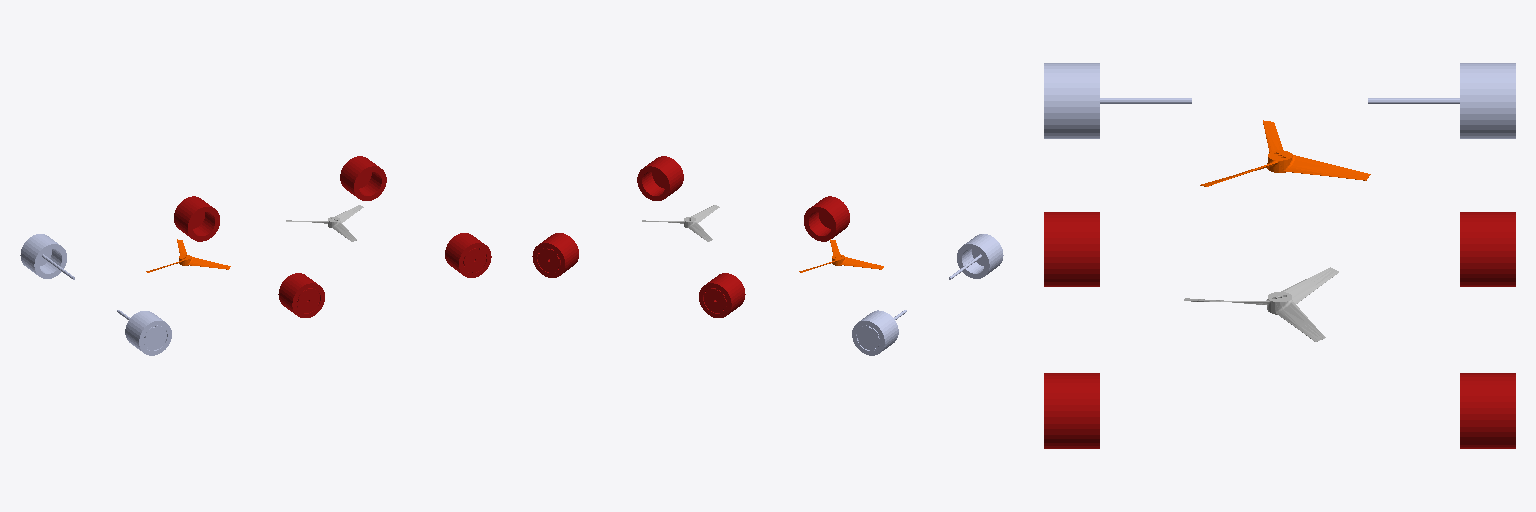
robot.urdf — Ensamblaje1_juan:
<?xml version="1.0" encoding="utf-8"?>
<!-- This URDF was automatically created by SolidWorks to URDF Exporter! Originally created by Stephen Brawner (brawner@gmail.com) 
     Commit Version: 1.6.0-4-g7f85cfe  Build Version: 1.6.7995.38578
     For more information, please see http://wiki.ros.org/sw_urdf_exporter -->
<robot
  name="Ensamblaje1_juan">
  <link
    name="chasis_trasero_link">
    <inertial>
      <origin
        xyz="-0.0158575511616777 0.000531638352664607 0.0101393434625862"
        rpy="0 0 0" />
      <mass
        value="0.195853503730635" />
      <inertia
        ixx="0.000166021256012164"
        ixy="5.73580606085256E-07"
        ixz="-4.25010569003643E-06"
        iyy="0.00017722280679267"
        iyz="-1.04426010499048E-07"
        izz="0.000321224175072123" />
    </inertial>
    <visual>
      <origin
        xyz="0 0 0"
        rpy="0 0 0" />
      <geometry>
        <mesh
          filename="package://Ensamblaje1_juan/meshes/chasis_trasero_link.STL" />
      </geometry>
      <material
        name="">
        <color
          rgba="0.698039215686274 0.698039215686274 0.698039215686274 1" />
      </material>
    </visual>
    <collision>
      <origin
        xyz="0 0 0"
        rpy="0 0 0" />
      <geometry>
        <mesh
          filename="package://Ensamblaje1_juan/meshes/chasis_trasero_link.STL" />
      </geometry>
    </collision>
  </link>
  <link
    name="rueda_trasera_derecha_link">
    <inertial>
      <origin
        xyz="-2.35922392732846E-16 -2.42861286636753E-17 -0.00995721638460603"
        rpy="0 0 0" />
      <mass
        value="0.0104190124090094" />
      <inertia
        ixx="1.25231602494747E-06"
        ixy="1.32348898008484E-23"
        ixz="-7.33877134805272E-22"
        iyy="1.25231602494747E-06"
        iyz="-1.49829002682653E-22"
        izz="1.46758632490156E-06" />
    </inertial>
    <visual>
      <origin
        xyz="0 0 0"
        rpy="0 0 0" />
      <geometry>
        <mesh
          filename="package://Ensamblaje1_juan/meshes/rueda_trasera_derecha_link.STL" />
      </geometry>
      <material
        name="">
        <color
          rgba="0.792156862745098 0.819607843137255 0.933333333333333 1" />
      </material>
    </visual>
    <collision>
      <origin
        xyz="0 0 0"
        rpy="0 0 0" />
      <geometry>
        <mesh
          filename="package://Ensamblaje1_juan/meshes/rueda_trasera_derecha_link.STL" />
      </geometry>
    </collision>
  </link>
  <joint
    name="rueda_trasera_derecha_joint"
    type="fixed">
    <origin
      xyz="-0.064324 -0.0939 0.007"
      rpy="1.5708 -0.097375 0" />
    <parent
      link="chasis_trasero_link" />
    <child
      link="rueda_trasera_derecha_link" />
    <axis
      xyz="0 0 0" />
  </joint>
  <link
    name="rueda_trasera_izquierda_link">
    <inertial>
      <origin
        xyz="-1.11022302462516E-16 -1.96511643762998E-16 0.00995721638460604"
        rpy="0 0 0" />
      <mass
        value="0.0104190124090094" />
      <inertia
        ixx="1.25231602494747E-06"
        ixy="-1.45953475040116E-22"
        ixz="3.44708668595202E-22"
        iyy="1.25231602494747E-06"
        iyz="8.68983363337935E-22"
        izz="1.46758632490156E-06" />
    </inertial>
    <visual>
      <origin
        xyz="0 0 0"
        rpy="0 0 0" />
      <geometry>
        <mesh
          filename="package://Ensamblaje1_juan/meshes/rueda_trasera_izquierda_link.STL" />
      </geometry>
      <material
        name="">
        <color
          rgba="0.792156862745098 0.819607843137255 0.933333333333333 1" />
      </material>
    </visual>
    <collision>
      <origin
        xyz="0 0 0"
        rpy="0 0 0" />
      <geometry>
        <mesh
          filename="package://Ensamblaje1_juan/meshes/rueda_trasera_izquierda_link.STL" />
      </geometry>
    </collision>
  </link>
  <joint
    name="rueda_trasera_izquierda_joint"
    type="fixed">
    <origin
      xyz="-0.064324 0.0939 0.007"
      rpy="1.5708 0 0" />
    <parent
      link="chasis_trasero_link" />
    <child
      link="rueda_trasera_izquierda_link" />
    <axis
      xyz="0 0 0" />
  </joint>
  <link
    name="rueda_media_derecha_link">
    <inertial>
      <origin
        xyz="1.59594559789866E-16 -1.47695440946838E-16 -0.00940085827335935"
        rpy="0 0 0" />
      <mass
        value="0.0101298877101087" />
      <inertia
        ixx="1.16861689422253E-06"
        ixy="1.81634840861153E-22"
        ixz="5.89048664461853E-22"
        iyy="1.16861689422253E-06"
        iyz="-5.44703753955961E-22"
        izz="1.46736044623054E-06" />
    </inertial>
    <visual>
      <origin
        xyz="0 0 0"
        rpy="0 0 0" />
      <geometry>
        <mesh
          filename="package://Ensamblaje1_juan/meshes/rueda_media_derecha_link.STL" />
      </geometry>
      <material
        name="">
        <color
          rgba="0.694117647058824 0.0980392156862745 0.0980392156862745 1" />
      </material>
    </visual>
    <collision>
      <origin
        xyz="0 0 0"
        rpy="0 0 0" />
      <geometry>
        <mesh
          filename="package://Ensamblaje1_juan/meshes/rueda_media_derecha_link.STL" />
      </geometry>
    </collision>
  </link>
  <joint
    name="rueda_media_derecha_joint"
    type="continuous">
    <origin
      xyz="0.075676 -0.0939 0.007"
      rpy="1.5708 0 0" />
    <parent
      link="chasis_trasero_link" />
    <child
      link="rueda_media_derecha_link" />
    <axis
      xyz="0 0 1" />
  </joint>
  <link
    name="rueda_media_izquierda_Link">
    <inertial>
      <origin
        xyz="1.17961196366423E-16 1.85750937201079E-16 0.00940085827335936"
        rpy="0 0 0" />
      <mass
        value="0.0101298877101087" />
      <inertia
        ixx="1.16861689422253E-06"
        ixy="-1.1270335846035E-22"
        ixz="-3.82889771208034E-22"
        iyy="1.16861689422253E-06"
        iyz="-7.97244960916793E-22"
        izz="1.46736044623054E-06" />
    </inertial>
    <visual>
      <origin
        xyz="0 0 0"
        rpy="0 0 0" />
      <geometry>
        <mesh
          filename="package://Ensamblaje1_juan/meshes/rueda_media_izquierda_Link.STL" />
      </geometry>
      <material
        name="">
        <color
          rgba="0.694117647058824 0.0980392156862745 0.0980392156862745 1" />
      </material>
    </visual>
    <collision>
      <origin
        xyz="0 0 0"
        rpy="0 0 0" />
      <geometry>
        <mesh
          filename="package://Ensamblaje1_juan/meshes/rueda_media_izquierda_Link.STL" />
      </geometry>
    </collision>
  </link>
  <joint
    name="rueda_media_izquierda_joint"
    type="continuous">
    <origin
      xyz="0.075676 0.0939 0.007"
      rpy="1.5708 0.0017968 0" />
    <parent
      link="chasis_trasero_link" />
    <child
      link="rueda_media_izquierda_Link" />
    <axis
      xyz="0 0 1" />
  </joint>
  <link
    name="helice_trasera_link">
    <inertial>
      <origin
        xyz="-8.52667519591005E-08 4.11093228416815E-07 -0.00272532365909728"
        rpy="0 0 0" />
      <mass
        value="0.000767110475009666" />
      <inertia
        ixx="6.52743158106174E-08"
        ixy="8.16884543414592E-11"
        ixz="-1.54796508725946E-13"
        iyy="6.52196980054335E-08"
        iyz="-5.43618074677721E-13"
        izz="1.27831875737415E-07" />
    </inertial>
    <visual>
      <origin
        xyz="0 0 0"
        rpy="0 0 0" />
      <geometry>
        <mesh
          filename="package://Ensamblaje1_juan/meshes/helice_trasera_link.STL" />
      </geometry>
      <material
        name="">
        <color
          rgba="1 0.415686274509804 0 1" />
      </material>
    </visual>
    <collision>
      <origin
        xyz="0 0 0"
        rpy="0 0 0" />
      <geometry>
        <mesh
          filename="package://Ensamblaje1_juan/meshes/helice_trasera_link.STL" />
      </geometry>
    </collision>
  </link>
  <joint
    name="helice_trasera_joint"
    type="continuous">
    <origin
      xyz="0.017176 0 0.02102"
      rpy="0 0 0" />
    <parent
      link="chasis_trasero_link" />
    <child
      link="helice_trasera_link" />
    <axis
      xyz="0 0 1" />
  </joint>
  <link
    name="chasis_delantero_link">
    <inertial>
      <origin
        xyz="0.0941408327686579 0.00650779264046262 -0.0298937456317151"
        rpy="0 0 0" />
      <mass
        value="0.1516002654948" />
      <inertia
        ixx="0.000161369474545811"
        ixy="-1.08649769592539E-05"
        ixz="-1.95383060064165E-07"
        iyy="0.00033851692080424"
        iyz="-6.98590201082011E-08"
        izz="0.000210795521466371" />
    </inertial>
    <visual>
      <origin
        xyz="0 0 0"
        rpy="0 0 0" />
      <geometry>
        <mesh
          filename="package://Ensamblaje1_juan/meshes/chasis_delantero_link.STL" />
      </geometry>
      <material
        name="">
        <color
          rgba="0.698039215686274 0.698039215686274 0.698039215686274 1" />
      </material>
    </visual>
    <collision>
      <origin
        xyz="0 0 0"
        rpy="0 0 0" />
      <geometry>
        <mesh
          filename="package://Ensamblaje1_juan/meshes/chasis_delantero_link.STL" />
      </geometry>
    </collision>
  </link>
  <joint
    name="chasis_trasero_joint"
    type="revolute">
    <origin
      xyz="0.083176 -0.03 0.004"
      rpy="1.5708 0 0" />
    <parent
      link="chasis_trasero_link" />
    <child
      link="chasis_delantero_link" />
    <axis
      xyz="0 0 1" />
    <limit
      lower="-1.5708"
      upper="1.5708"
      effort="10"
      velocity="1" />
  </joint>
  <link
    name="rueda_delantera_derecha_Link">
    <inertial>
      <origin
        xyz="8.32667268468867E-17 -2.03748693264338E-16 -0.00940085827335935"
        rpy="0 0 0" />
      <mass
        value="0.0101298877101087" />
      <inertia
        ixx="1.16861689422253E-06"
        ixy="1.40620704134015E-23"
        ixz="3.50644422996283E-22"
        iyy="1.16861689422253E-06"
        iyz="-6.69695711517854E-22"
        izz="1.46736044623054E-06" />
    </inertial>
    <visual>
      <origin
        xyz="0 0 0"
        rpy="0 0 0" />
      <geometry>
        <mesh
          filename="package://Ensamblaje1_juan/meshes/rueda_delantera_derecha_Link.STL" />
      </geometry>
      <material
        name="">
        <color
          rgba="0.694117647058824 0.0980392156862745 0.0980392156862745 1" />
      </material>
    </visual>
    <collision>
      <origin
        xyz="0 0 0"
        rpy="0 0 0" />
      <geometry>
        <mesh
          filename="package://Ensamblaje1_juan/meshes/rueda_delantera_derecha_Link.STL" />
      </geometry>
    </collision>
  </link>
  <joint
    name="rueda_delantera_derecha_joint"
    type="continuous">
    <origin
      xyz="0.14451 0.0027404 0.0639"
      rpy="0 0 -0.0017968" />
    <parent
      link="chasis_delantero_link" />
    <child
      link="rueda_delantera_derecha_Link" />
    <axis
      xyz="0 0 1" />
  </joint>
  <link
    name="rueda_delantera_izquierda_Link">
    <inertial>
      <origin
        xyz="-1.94289029309402E-16 -1.66912924454143E-16 0.00940085827335935"
        rpy="0 0 0" />
      <mass
        value="0.0101298877101087" />
      <inertia
        ixx="1.16861689422253E-06"
        ixy="8.23044709490259E-23"
        ixz="2.57979873752233E-22"
        iyy="1.16861689422253E-06"
        iyz="6.48957949857958E-22"
        izz="1.46736044623054E-06" />
    </inertial>
    <visual>
      <origin
        xyz="0 0 0"
        rpy="0 0 0" />
      <geometry>
        <mesh
          filename="package://Ensamblaje1_juan/meshes/rueda_delantera_izquierda_Link.STL" />
      </geometry>
      <material
        name="">
        <color
          rgba="0.694117647058824 0.0980392156862745 0.0980392156862745 1" />
      </material>
    </visual>
    <collision>
      <origin
        xyz="0 0 0"
        rpy="0 0 0" />
      <geometry>
        <mesh
          filename="package://Ensamblaje1_juan/meshes/rueda_delantera_izquierda_Link.STL" />
      </geometry>
    </collision>
  </link>
  <joint
    name="rueda_delantera_izquierda_joint"
    type="continuous">
    <origin
      xyz="0.14451 0.0027404 -0.1239"
      rpy="0 0 -0.0017968" />
    <parent
      link="chasis_delantero_link" />
    <child
      link="rueda_delantera_izquierda_Link" />
    <axis
      xyz="0 0 1" />
  </joint>
  <link
    name="helice_delantera_link">
    <inertial>
      <origin
        xyz="-5.50487598921512E-07 -2.32203756792004E-07 -0.00272532001852913"
        rpy="0 0 0" />
      <mass
        value="0.000767098383051616" />
      <inertia
        ixx="6.51904854409878E-08"
        ixy="-5.99257254153706E-11"
        ixz="5.79836150660766E-13"
        iyy="6.52992140166565E-08"
        iyz="1.94077305046825E-13"
        izz="1.27827565607198E-07" />
    </inertial>
    <visual>
      <origin
        xyz="0 0 0"
        rpy="0 0 0" />
      <geometry>
        <mesh
          filename="package://Ensamblaje1_juan/meshes/helice_delantera_link.STL" />
      </geometry>
      <material
        name="">
        <color
          rgba="0.752941176470588 0.752941176470588 0.752941176470588 1" />
      </material>
    </visual>
    <collision>
      <origin
        xyz="0 0 0"
        rpy="0 0 0" />
      <geometry>
        <mesh
          filename="package://Ensamblaje1_juan/meshes/helice_delantera_link.STL" />
      </geometry>
    </collision>
  </link>
  <joint
    name="helice_delantera_joint"
    type="continuous">
    <origin
      xyz="0.069799 0.018025 -0.030006"
      rpy="-1.5708 0 -0.0017968" />
    <parent
      link="chasis_delantero_link" />
    <child
      link="helice_delantera_link" />
    <axis
      xyz="0 0 1" />
  </joint>
</robot>

--- What the picture shows (computed from the rendered views, not written in the file) ---
3 views of the same robot in one strip: view 1: azimuth 30°, elevation 25°; view 2: azimuth 150°, elevation 25°; view 3: azimuth 270°, elevation 25° (orthographic).
Model Ensamblaje1_juan with 10 links and 9 joints (1 revolute, 6 continuous, 2 fixed), rooted at chasis_trasero_link, posed every joint at zero.
Links seen in each view (by area): view 1: rueda_trasera_derecha_link, rueda_trasera_izquierda_link, rueda_media_derecha_link, rueda_media_izquierda_Link, rueda_delantera_derecha_Link, rueda_delantera_izquierda_Link, helice_delantera_link, helice_trasera_link; view 2: rueda_trasera_izquierda_link, rueda_trasera_derecha_link, rueda_media_derecha_link, rueda_media_izquierda_Link, rueda_delantera_izquierda_Link, rueda_delantera_derecha_Link, helice_delantera_link, helice_trasera_link; view 3: rueda_trasera_derecha_link, rueda_trasera_izquierda_link, rueda_delantera_derecha_Link, rueda_delantera_izquierda_Link, rueda_media_derecha_link, rueda_media_izquierda_Link, helice_delantera_link, helice_trasera_link.
Link boxes in pixels (x1,y1,x2,y2): rueda_trasera_derecha_link: (117,310,171,355); rueda_trasera_izquierda_link: (20,234,74,279); rueda_media_derecha_link: (278,273,324,317); rueda_media_izquierda_Link: (174,196,219,241); rueda_delantera_derecha_Link: (445,233,491,277); rueda_delantera_izquierda_Link: (340,156,386,200); helice_delantera_link: (286,205,363,241); helice_trasera_link: (146,239,230,272); rueda_trasera_izquierda_link: (852,310,906,355); rueda_trasera_derecha_link: (949,234,1003,279); rueda_media_derecha_link: (804,196,849,241); rueda_media_izquierda_Link: (699,273,745,317); rueda_delantera_izquierda_Link: (532,233,578,277); rueda_delantera_derecha_Link: (637,156,683,200); helice_delantera_link: (642,205,719,241); helice_trasera_link: (799,239,883,272); rueda_trasera_derecha_link: (1044,63,1191,138); rueda_trasera_izquierda_link: (1368,63,1515,138); rueda_delantera_derecha_Link: (1044,373,1099,448); rueda_delantera_izquierda_Link: (1460,373,1515,448); rueda_media_derecha_link: (1044,212,1099,286); rueda_media_izquierda_Link: (1460,212,1515,286); helice_delantera_link: (1184,267,1338,341); helice_trasera_link: (1200,120,1370,186).
Bounding box of the posed robot: 0.322 × 0.1878 × 0.0303 m (x, y, z).
8 mesh visuals loaded from 10 distinct referenced files (8 binary STL); not drawn: 2 (reference not matched to a file when rendering).
